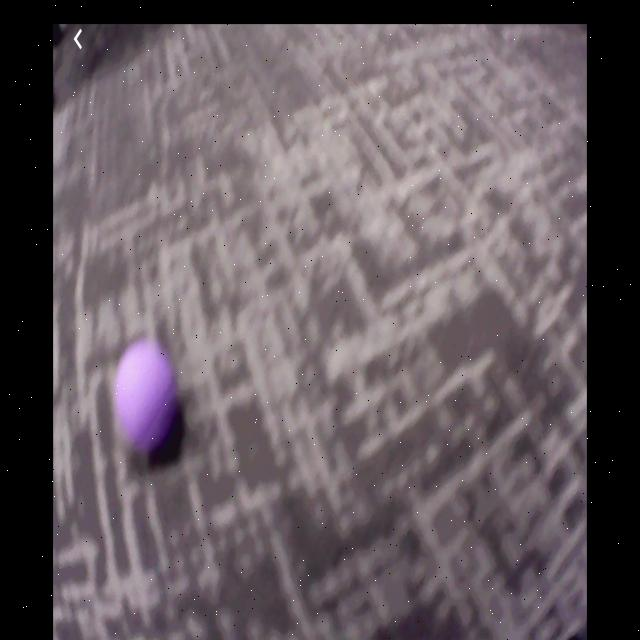ball: (116, 341, 180, 451)
